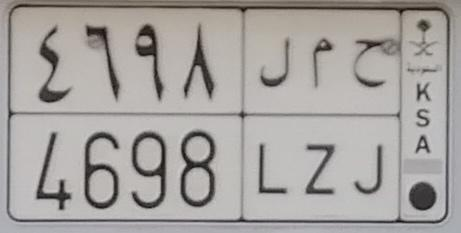4: (35, 23, 74, 211)
6: (82, 24, 122, 209)
8: (180, 21, 215, 207)
9: (130, 20, 168, 209)
J: (352, 38, 387, 195)
L: (257, 36, 292, 195)
Z: (303, 36, 337, 197)
